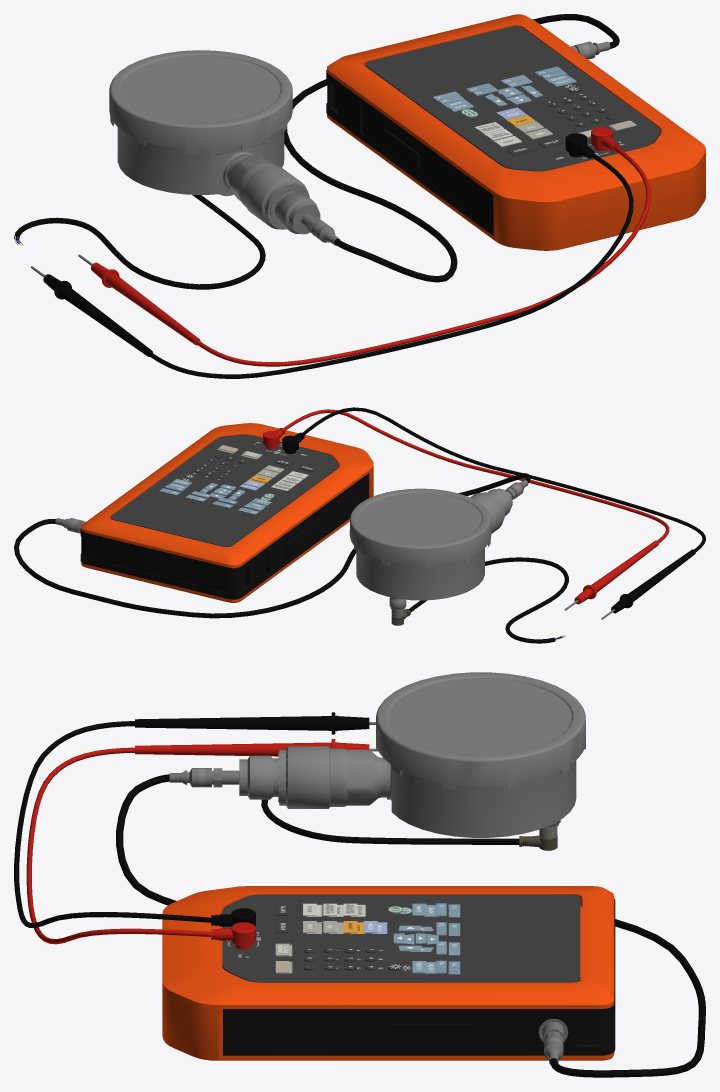
File: 현장 압력 표준기.fbx
3 views of the same model, one above another, from view 1: azimuth 30°, elevation 25°; view 2: azimuth 150°, elevation 25°; view 3: azimuth 270°, elevation 25° (orthographic). The views are drawn at different scales.
Parts seen in each view (by area): view 1: Plane002, Fluke 729 pro, PG2452_silver, PG2452_glass, Box133, Line001, Line003, Line002, Line004, Cylinder677, Cylinder678, PG2452; view 2: Fluke 729 pro, Plane002, PG2452_silver, PG2452_glass, Line001, Box133, Line003, Line002, Line004, Cylinder677, Cylinder678; view 3: Fluke 729 pro, Plane002, PG2452_silver, PG2452_glass, Box133, Line001, Cylinder678, Line003, Line002, Cylinder677, Line004, PG2452 (+2 smaller).
Part boxes in pixels (<box>): Plane002: <box>327,14,705,250</box>; Fluke 729 pro: <box>326,26,660,235</box>; PG2452_silver: <box>109,50,309,229</box>; PG2452_glass: <box>121,56,280,122</box>; Box133: <box>438,70,636,155</box>; Line001: <box>284,14,619,282</box>; Line003: <box>148,152,633,378</box>; Line002: <box>195,146,650,366</box>; Line004: <box>14,194,265,289</box>; Cylinder677: <box>91,262,200,345</box>; Cylinder678: <box>43,274,152,356</box>; PG2452: <box>275,191,320,234</box>; Fluke 729 pro: <box>80,434,369,599</box>; Plane002: <box>81,423,373,602</box>; PG2452_silver: <box>349,488,504,610</box>; PG2452_glass: <box>359,493,481,544</box>; Line001: <box>14,473,530,618</box>; Box133: <box>165,445,317,510</box>; Line003: <box>302,407,705,552</box>; Line002: <box>283,409,669,543</box>; Line004: <box>408,557,568,643</box>; Cylinder677: <box>574,540,658,604</box>; Cylinder678: <box>611,549,695,613</box>; Fluke 729 pro: <box>222,894,615,1055</box>; Plane002: <box>162,886,614,1060</box>; PG2452_silver: <box>279,672,585,837</box>; PG2452_glass: <box>389,678,571,754</box>; Box133: <box>275,903,446,973</box>; Line001: <box>116,774,705,1077</box>; Cylinder678: <box>135,712,369,734</box>; Line003: <box>14,721,211,927</box>; Line002: <box>26,747,211,944</box>; Cylinder677: <box>135,739,369,756</box>; Line004: <box>261,799,527,844</box>; PG2452: <box>239,755,278,799</box>.
Size of the model in its own units: 42.15 by 6.92 by 32.94.
